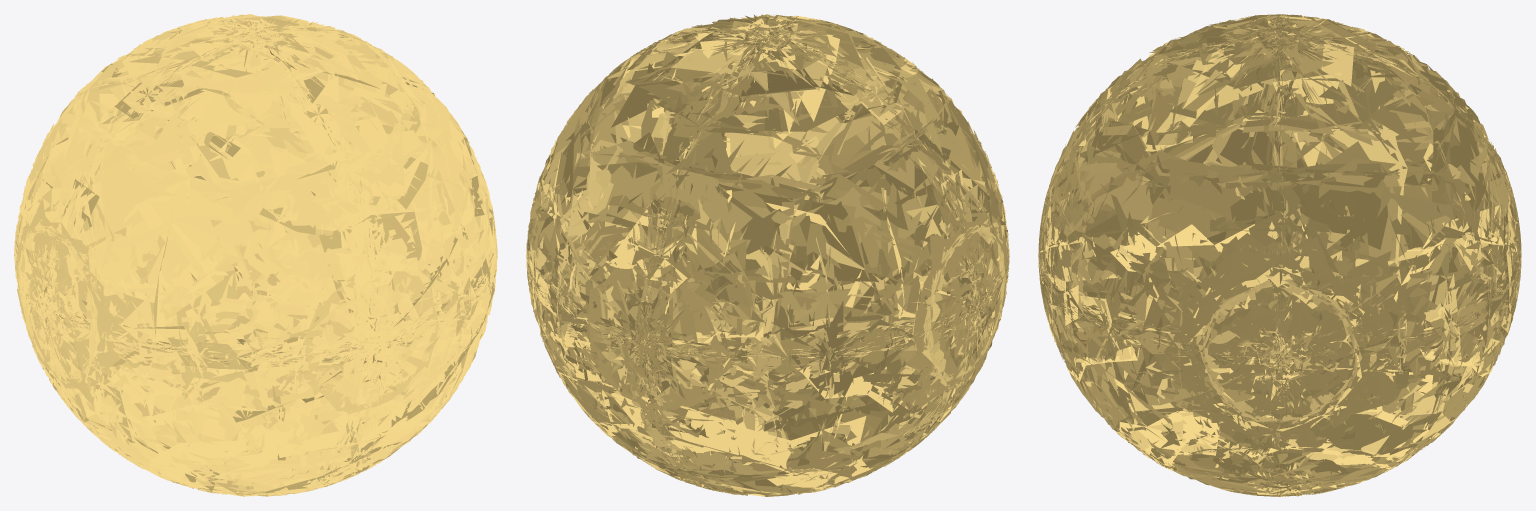
The model's file is sys-md-electrical.glb.
The picture shows the model from 3 angles, left to right: view 1: azimuth 30°, elevation 25°; view 2: azimuth 150°, elevation 25°; view 3: azimuth 270°, elevation 25°; orthographic projection.
Visible parts, largest first — view 1: TS-md-electrical-1677, TS-md-electrical-1674, TS-md-electrical-1672, TS-md-electrical-1684, TS-md-electrical-1682, TS-md-electrical-1675, TS-md-electrical-1683, TS-md-electrical-1679, TS-md-electrical-1673, TS-md-electrical-1680; view 2: TS-md-electrical-1677, TS-md-electrical-1674, TS-md-electrical-1682, TS-md-electrical-1684, TS-md-electrical-1672, TS-md-electrical-1675, TS-md-electrical-1679, TS-md-electrical-1683, TS-md-electrical-1673, TS-md-electrical-1680; view 3: TS-md-electrical-1677, TS-md-electrical-1684, TS-md-electrical-1674, TS-md-electrical-1683, TS-md-electrical-1682, TS-md-electrical-1672, TS-md-electrical-1675, TS-md-electrical-1679, TS-md-electrical-1673, TS-md-electrical-1680.
Part boxes in pixels (x1,y1,x2,y2): TS-md-electrical-1677: [14, 16, 497, 494]; TS-md-electrical-1674: [14, 14, 497, 496]; TS-md-electrical-1672: [14, 15, 497, 495]; TS-md-electrical-1684: [19, 15, 496, 496]; TS-md-electrical-1682: [14, 14, 497, 496]; TS-md-electrical-1675: [15, 17, 497, 491]; TS-md-electrical-1683: [17, 17, 497, 488]; TS-md-electrical-1679: [14, 17, 497, 493]; TS-md-electrical-1673: [15, 16, 496, 441]; TS-md-electrical-1680: [17, 15, 492, 449]; TS-md-electrical-1677: [526, 16, 1008, 494]; TS-md-electrical-1674: [527, 14, 1009, 496]; TS-md-electrical-1682: [526, 15, 1008, 496]; TS-md-electrical-1684: [529, 14, 1008, 496]; TS-md-electrical-1672: [526, 15, 1009, 496]; TS-md-electrical-1675: [526, 16, 1008, 495]; TS-md-electrical-1679: [527, 19, 1009, 489]; TS-md-electrical-1683: [527, 18, 1004, 494]; TS-md-electrical-1673: [527, 18, 1008, 470]; TS-md-electrical-1680: [527, 22, 1006, 485]; TS-md-electrical-1677: [1042, 19, 1519, 496]; TS-md-electrical-1684: [1039, 15, 1520, 496]; TS-md-electrical-1674: [1038, 14, 1521, 496]; TS-md-electrical-1683: [1045, 19, 1515, 496]; TS-md-electrical-1682: [1039, 14, 1521, 495]; TS-md-electrical-1672: [1038, 14, 1521, 496]; TS-md-electrical-1675: [1038, 15, 1520, 496]; TS-md-electrical-1679: [1038, 14, 1521, 494]; TS-md-electrical-1673: [1039, 14, 1521, 480]; TS-md-electrical-1680: [1040, 14, 1517, 496].
Bounding box in the file's own units: 2 × 2 × 2.
